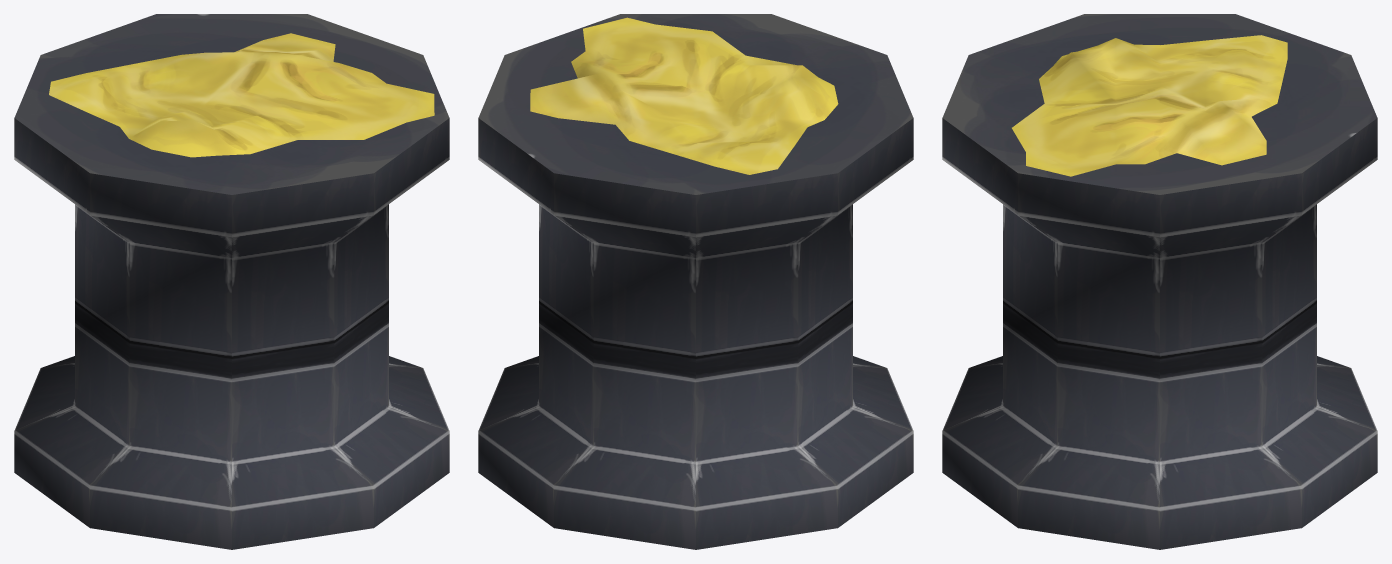
The model's file is golden_fleece.FBX.
The picture shows the model from 3 angles, left to right: view 1: azimuth 30°, elevation 25°; view 2: azimuth 150°, elevation 25°; view 3: azimuth 270°, elevation 25°; orthographic projection.
Parts seen in each view (by area): view 1: Cylinder001; view 2: Cylinder001; view 3: Cylinder001.
Part boxes in pixels (<box>): Cylinder001: <box>14,14,449,549</box>; Cylinder001: <box>478,14,913,549</box>; Cylinder001: <box>942,14,1377,549</box>.
Bounding box in the file's own units: 68.62 × 66.2 × 69.68.
